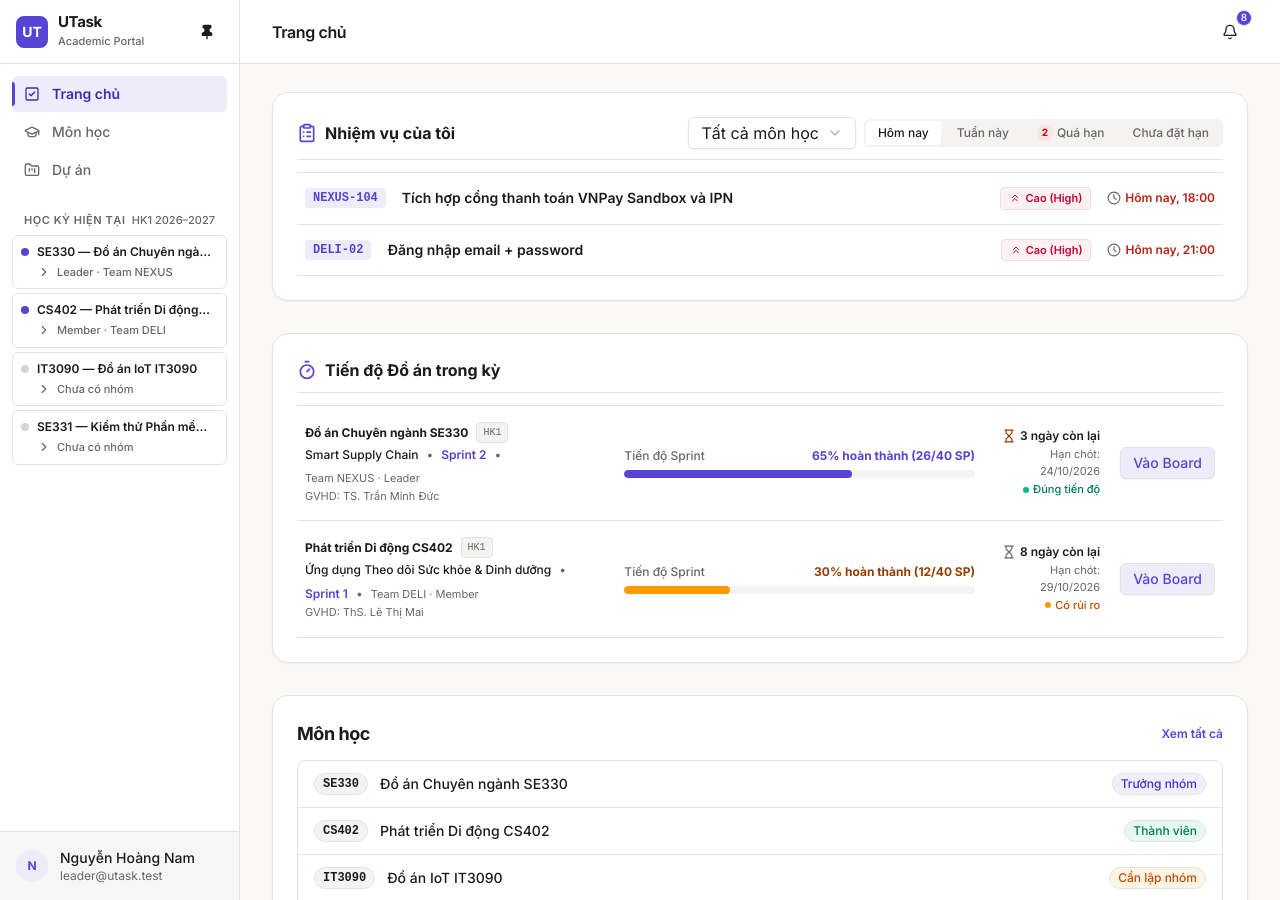
it: AuthenticatedLayout sidebar › moves Settings and Notifications into the profile menu and drops the quick tools
Check: the link "Cài đặt" is not shown
Check: the link "Thông báo" is not shown
Step 1. Click the button "N Nguyễn Hoàng Nam leader@utask.test" → (120, 866), box [12,844,227,888]
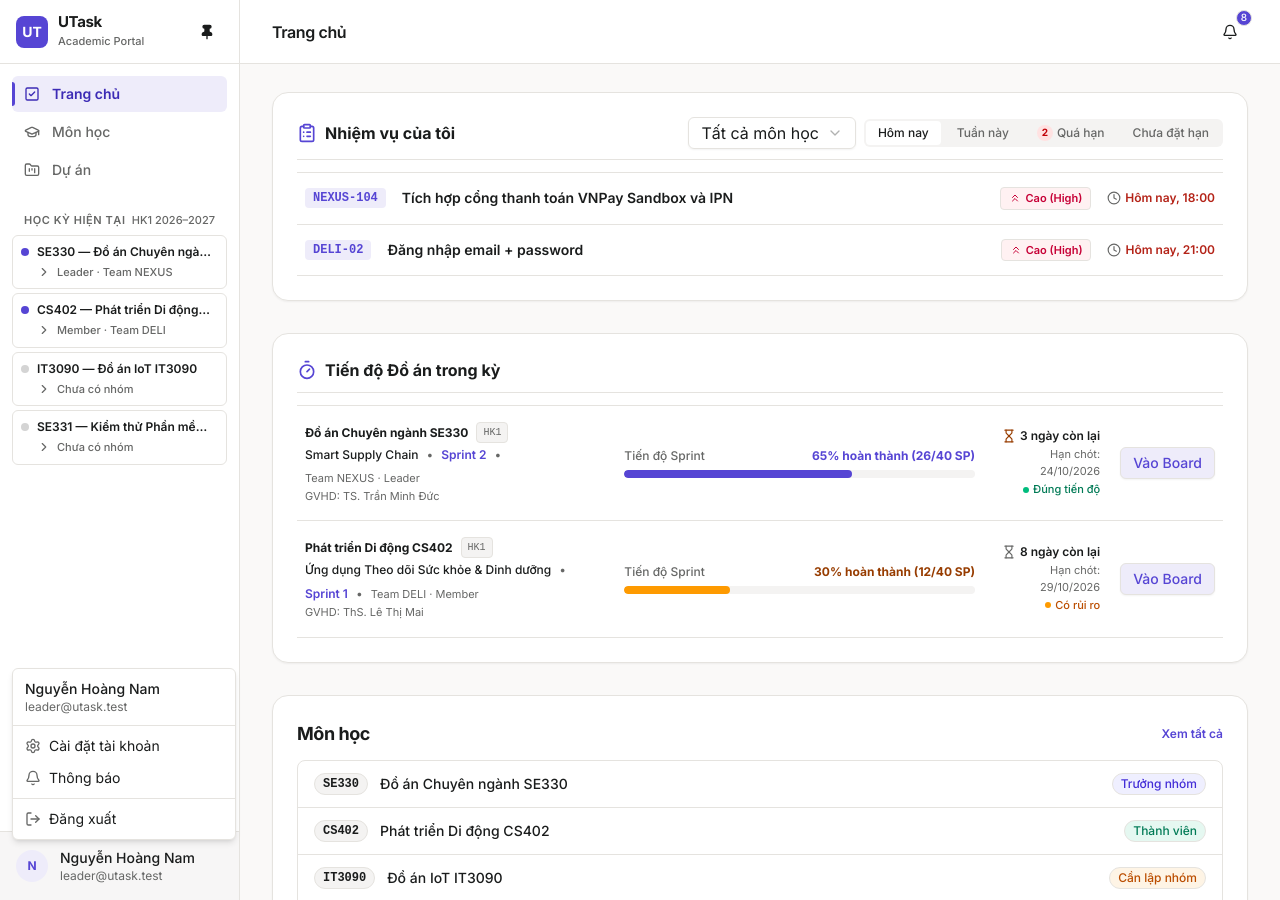
Check: the menu item "Đăng xuất" is shown, box [25,810,116,827]
